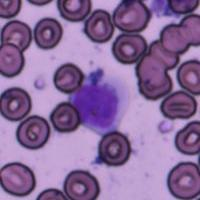L: (68, 70, 130, 134)
